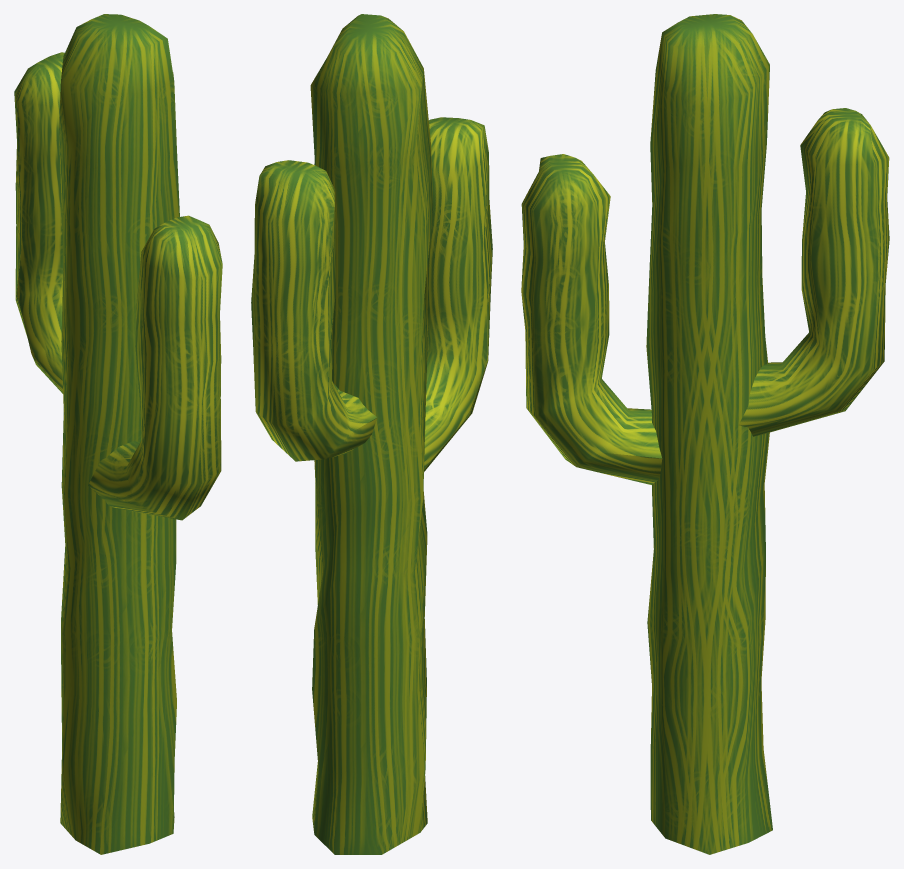
The model's file is cactus2.fbx.
The picture shows the model from 3 angles, left to right: view 1: azimuth 30°, elevation 25°; view 2: azimuth 150°, elevation 25°; view 3: azimuth 270°, elevation 25°; orthographic projection.
Visible parts, largest first — view 1: polymsh; view 2: polymsh; view 3: polymsh.
Boxes of the visible parts, <box> form: polymsh: <box>14,14,222,854</box>; polymsh: <box>251,14,492,854</box>; polymsh: <box>521,14,889,854</box>.
Bounding box in the file's own units: 14.02 × 96.53 × 39.73.
